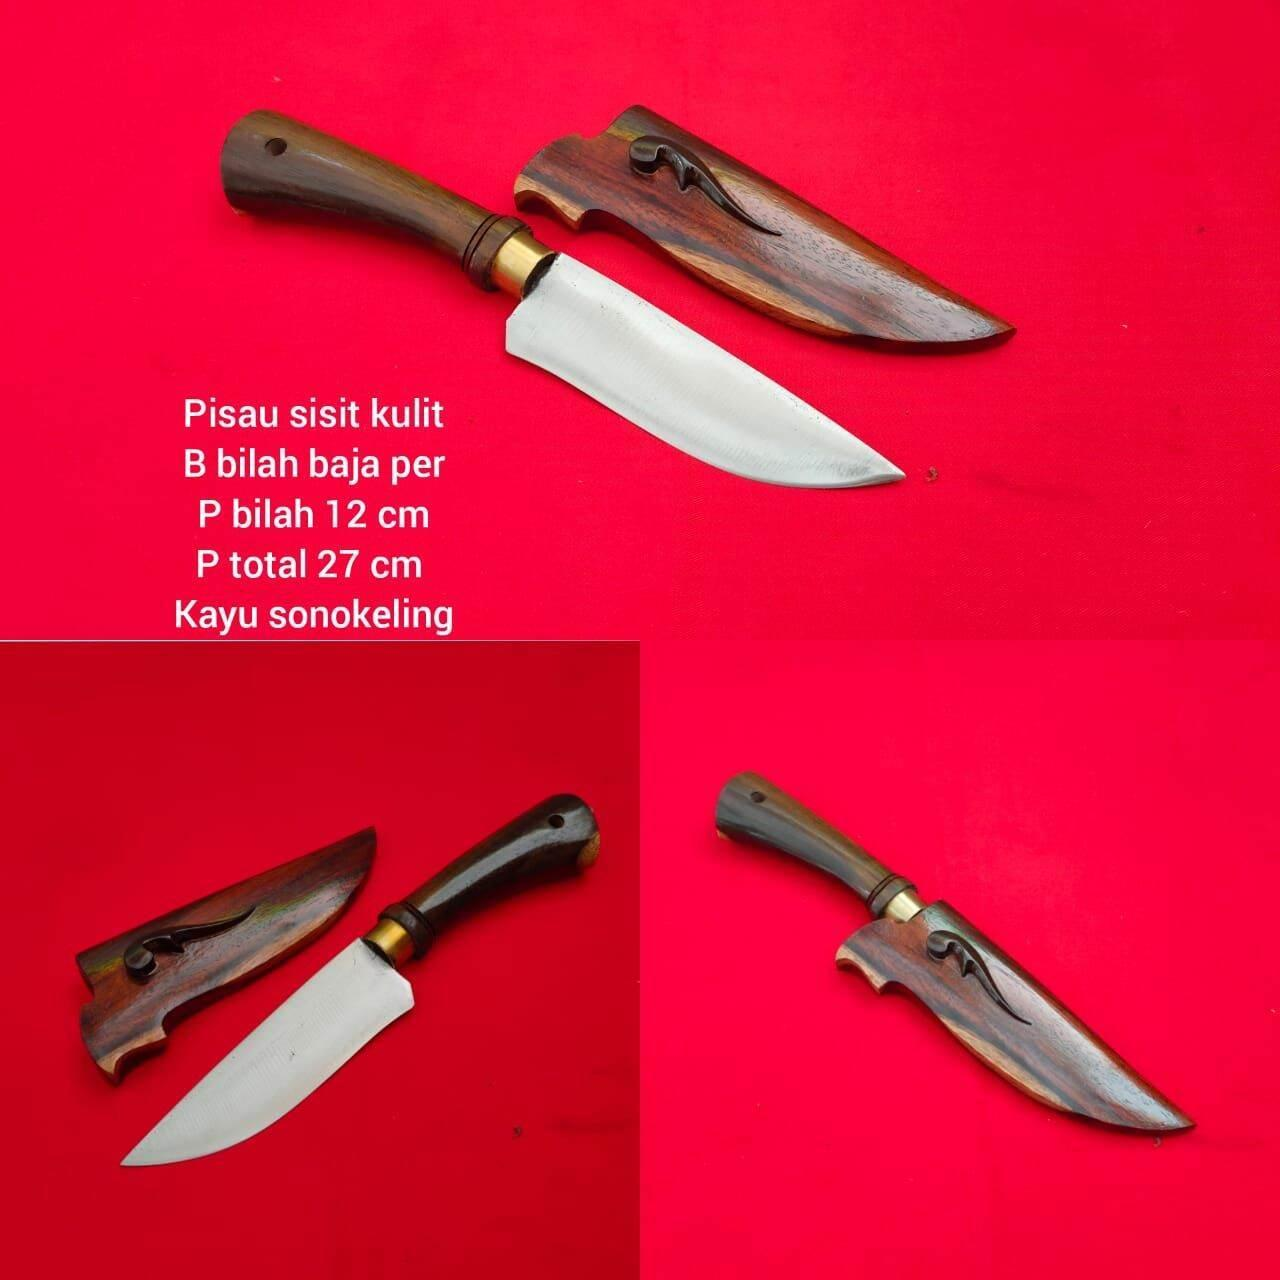faca: (222, 111, 903, 486), (123, 796, 599, 1164), (715, 772, 1190, 1133)
